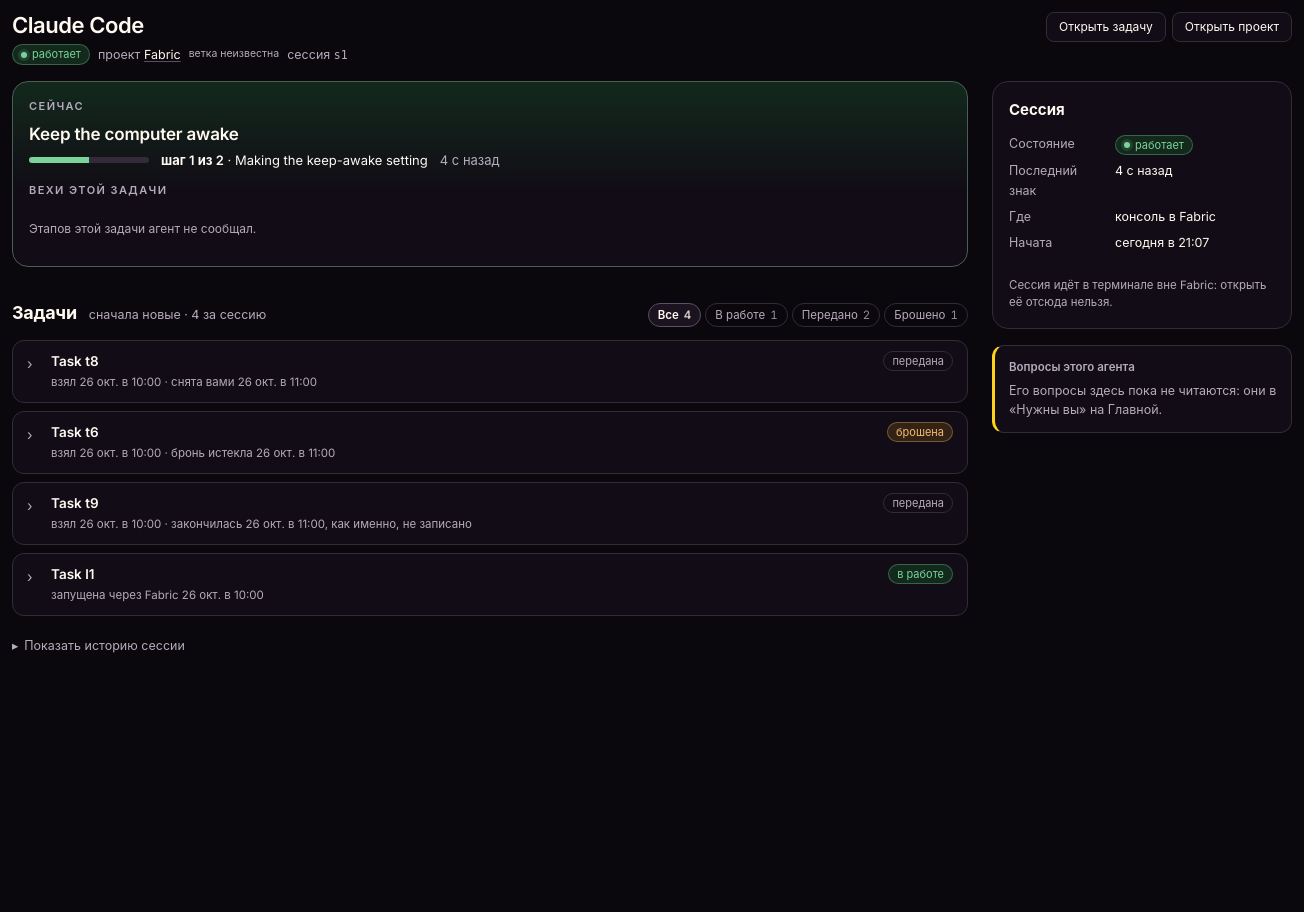
it: the agent page beside the list on Агенты (CO-393) › UX-8: an ending is said by how it ended, never «Закончил» for one the agent did not cause; an unknown ending is not shown raw
Expected: the list named "Задачи" shows "запущена через Fabric", top-left (51, 588), bottom-right (264, 602)
What coordinates should you click on to do the following:
click the button "Передано 2"
I would click on:
 (836, 315)
Its box is top-left (792, 303), bottom-right (880, 327).
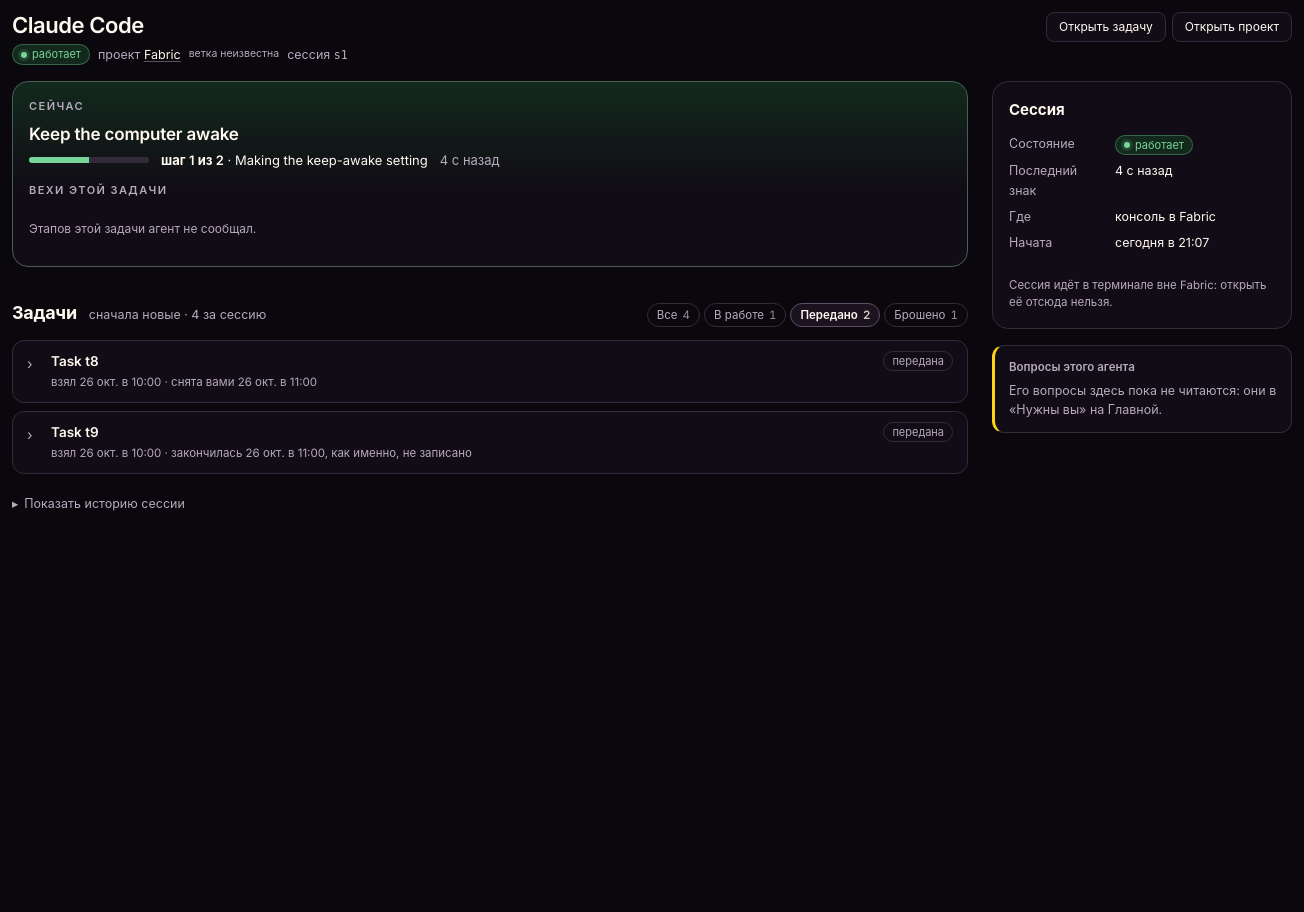
Expected: the list named "Задачи" shows "снята вами", top-left (51, 375), bottom-right (317, 389)
Result: the list "Задачи" no longer shows "Закончил"
Result: the heading "Задачи" no longer shows "бронь истекла"
What coordinates should you click on to do the following:
click the button "Брошено 1"
I would click on:
 (926, 315)
Its box is top-left (884, 303), bottom-right (968, 327).
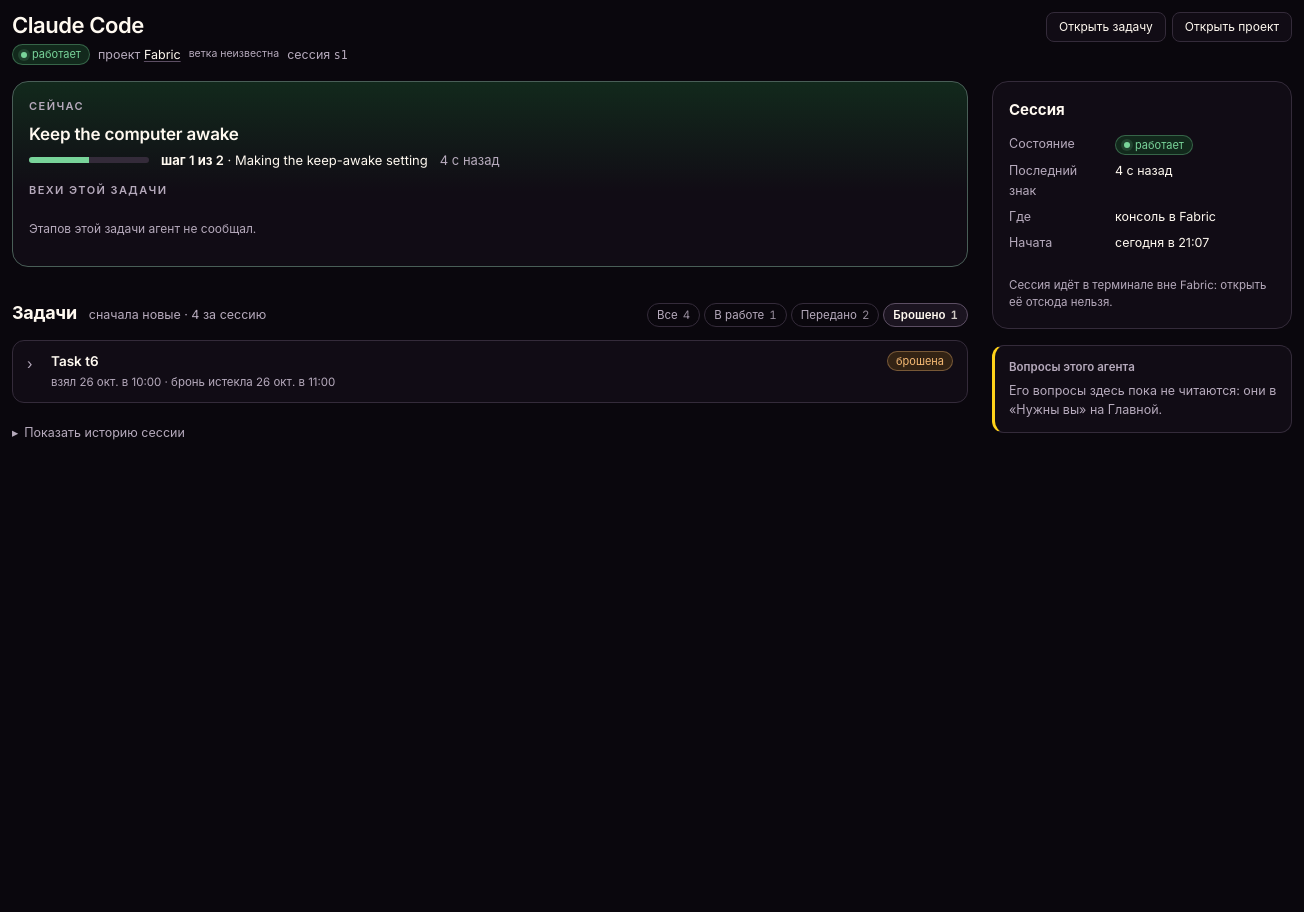
Result: the list named "Задачи" shows "бронь истекла" at top-left (51, 375), bottom-right (335, 389)
